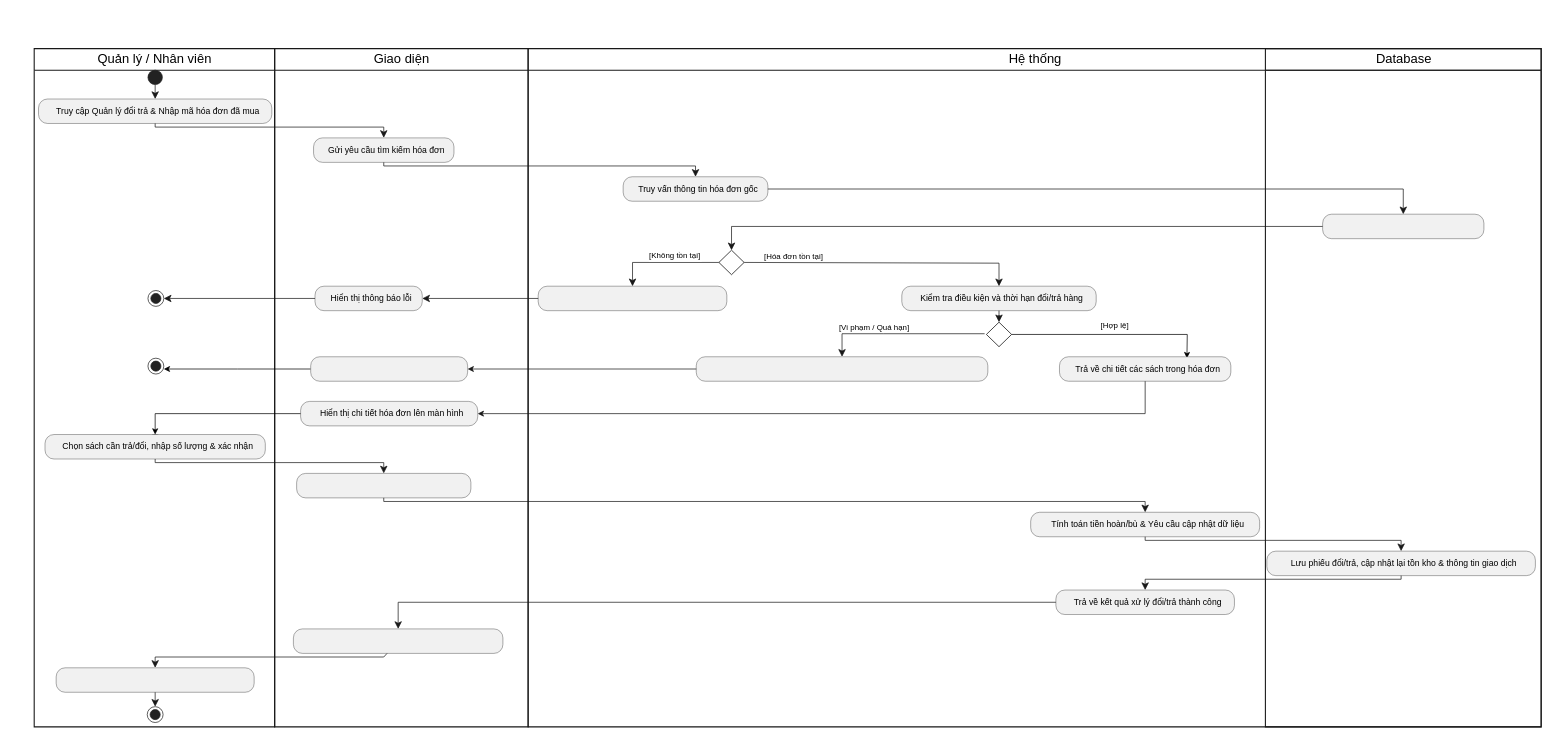
The diagram is 1554 pixels wide and 739 high, and some of its shapes have lost their labels. The centre of each missing label's shape, as x and y in pixels:
Gửi yêu cầu lưu thông tin đổi/trả hàng: [383,485]
Hiển thị thông báo hoàn tất & In phiếu đổi/trả: [398,640]
Hiển thị thông báo từ chối đổi/trả: [388,368]
Hoàn tất đổi sách hoặc hoàn tiền cho khách: [155,679]
Thông báo lỗi ("Không tìm thấy hóa đơn"): [632,298]
Tìm kiếm và trả về dữ liệu hóa đơn: [1403,226]
Từ chối yêu cầu ("Hóa đơn quá hạn hoặc sách không đủ điều kiện"): [842,368]
